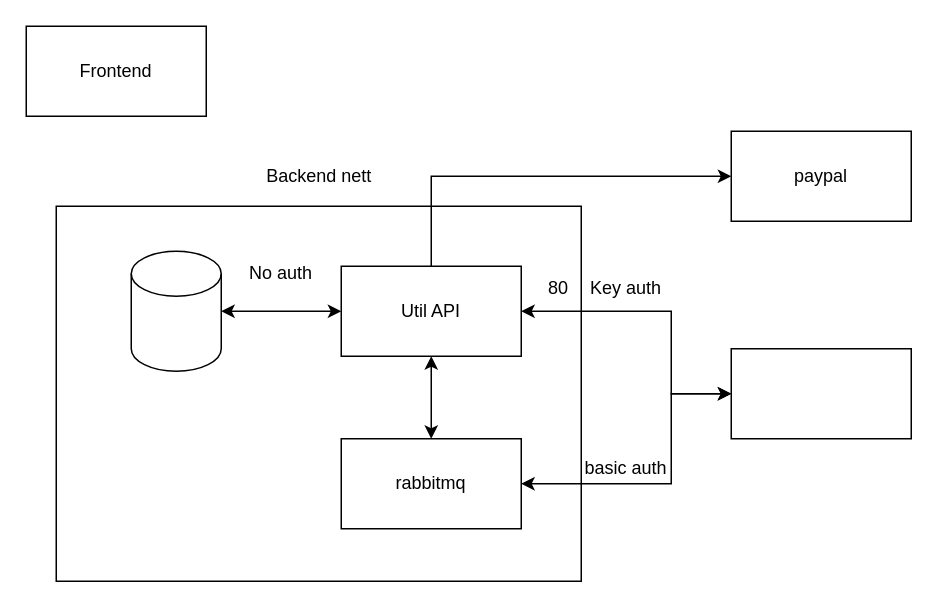
Some shapes in this 938 by 608 pixel diagram are drawn without their labels. Here are the shapes that lost their labels. From the top down, the centre of each, then its label:
the point at 175,310: StoreDB
the point at 820,393: Client
